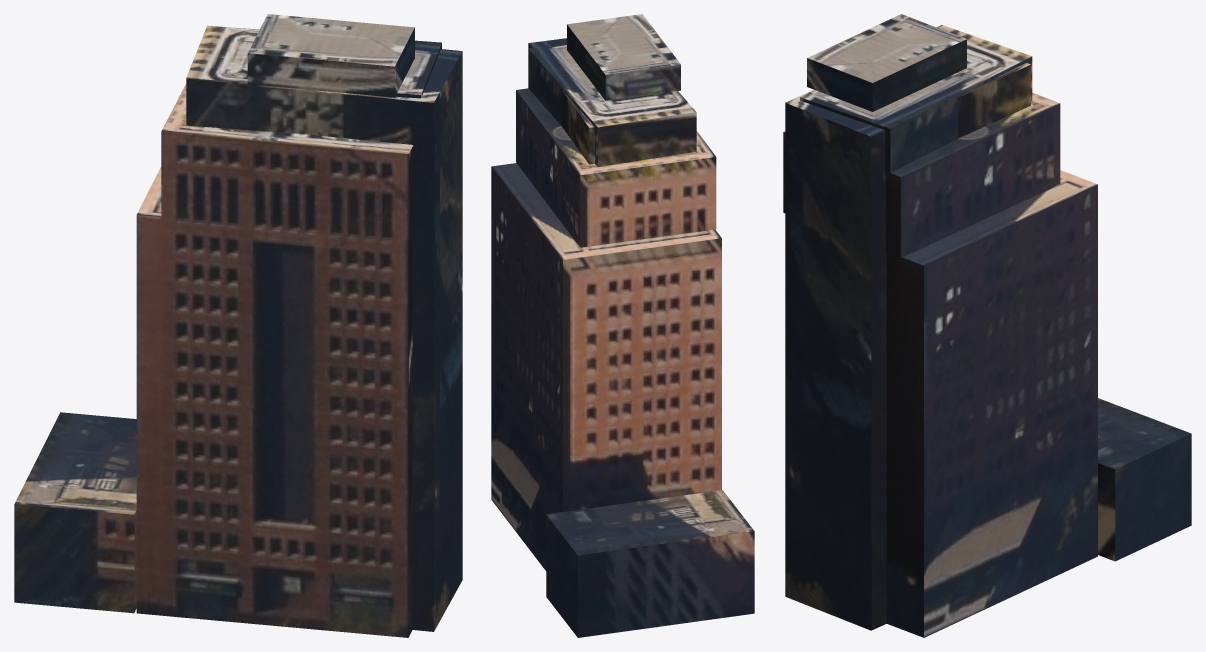
The model's file is torre_s14_a.glb.
3 renders of one model, left to right at view 1: azimuth 30°, elevation 25°; view 2: azimuth 150°, elevation 25°; view 3: azimuth 270°, elevation 25°, orthographic. The views are drawn at different scales.
Visible parts, largest first — view 1: torre_s14_a; view 2: torre_s14_a; view 3: torre_s14_a.
Boxes of the visible parts, x1,y1,x2,y2 form: torre_s14_a: (14,14,462,637); torre_s14_a: (491,14,754,637); torre_s14_a: (783,14,1191,637).
Bounding box in the file's own units: 37.75 × 54.21 × 38.11.
2 materials, 2 textured.
